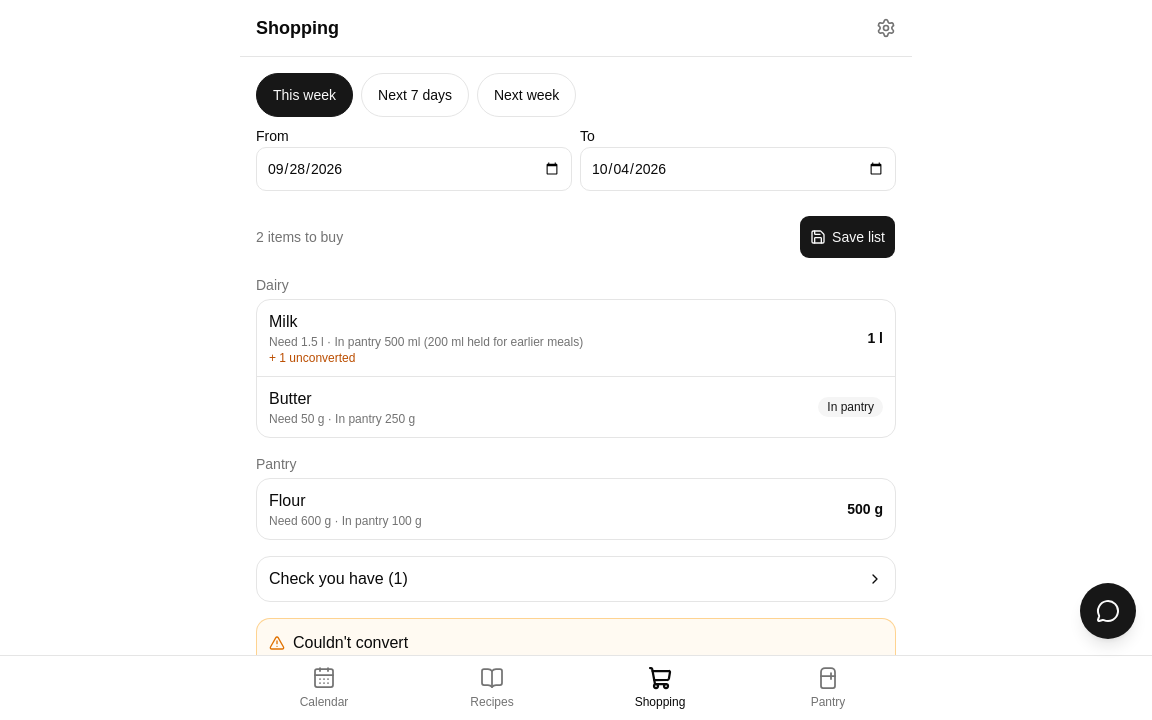
Test: shopping planner › saves a snapshot and opens it
Expected: the element "Dairy" is shown, [256,275,896,438]
Click the button "Save list" at (848, 237), box [799,215,896,259]
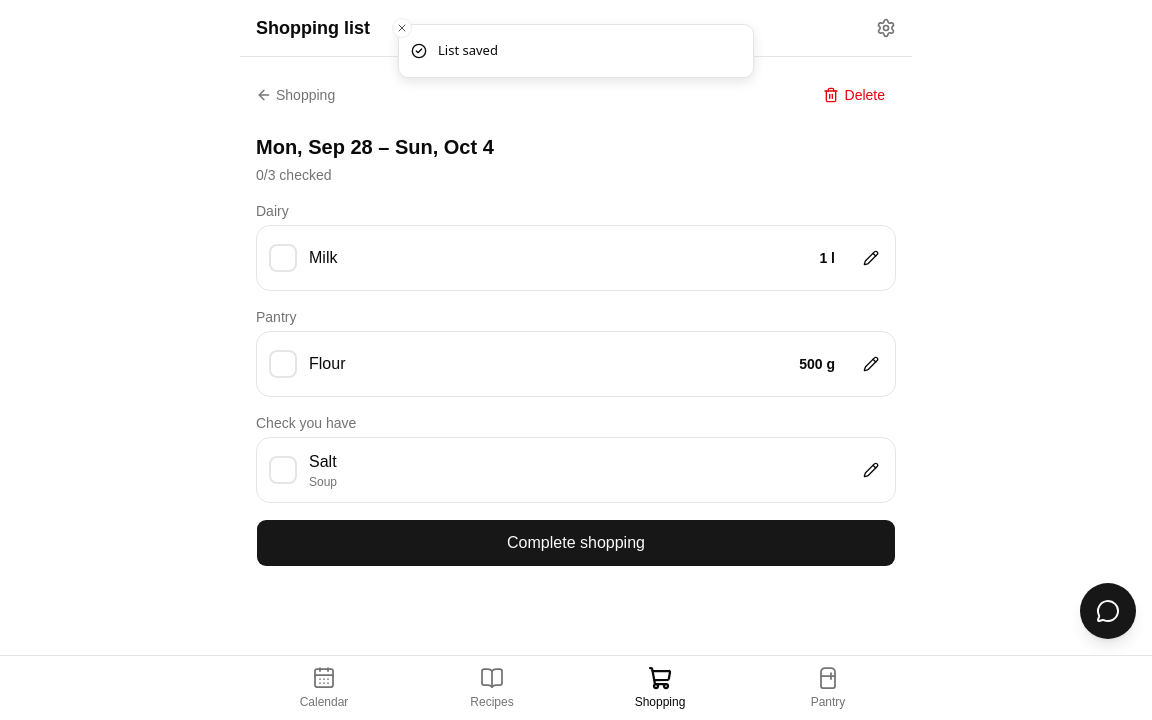
Expected: the text "List saved" is shown, [438,41,498,60]
Expected: the text "Salt" is shown, [309,453,337,470]
